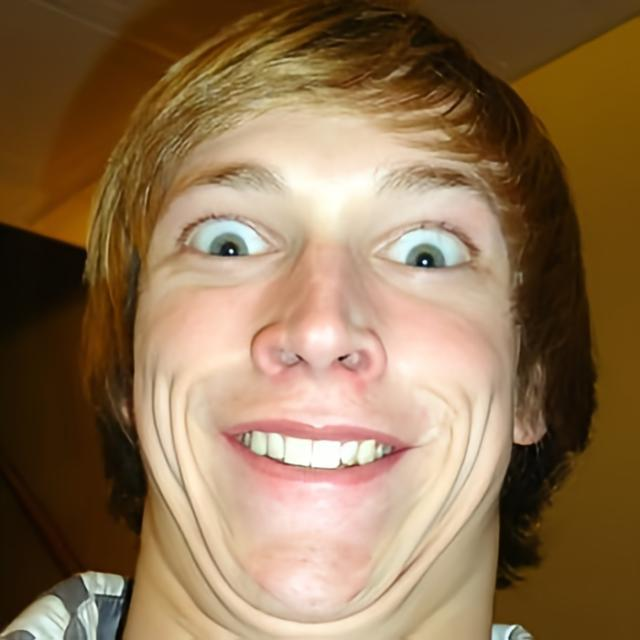surprise: (129, 86, 516, 623)
